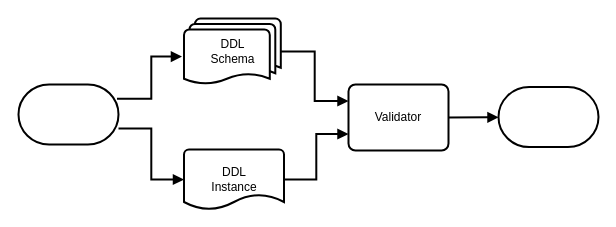
Image size: 616x227. Some labels were removed from this diagram. The shapes that lost their labels are listed below. From the top down, each one's box as (x1, y1, x2, y2) in pixels, then its label:
(17, 83, 119, 145): Validation Start
(497, 86, 599, 148): Validation Result
